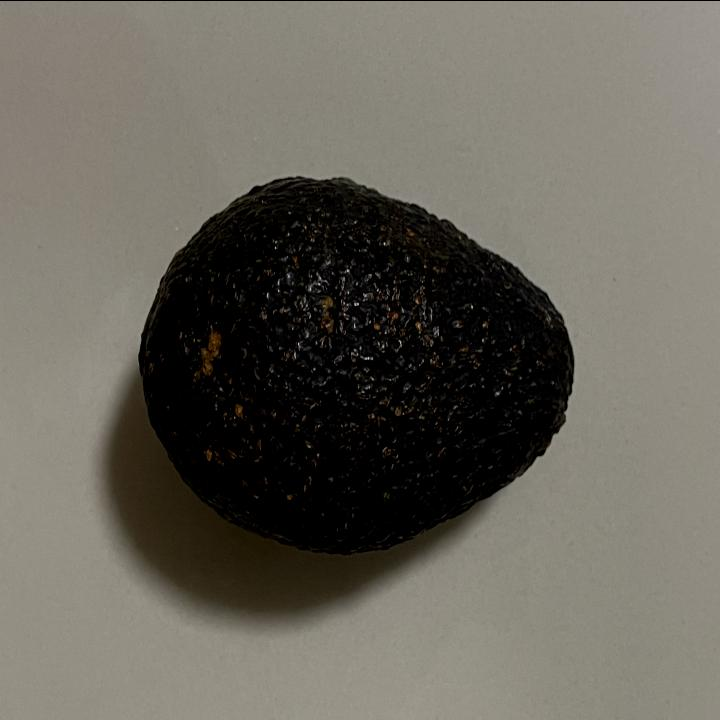Level2: (131, 170, 577, 563)
